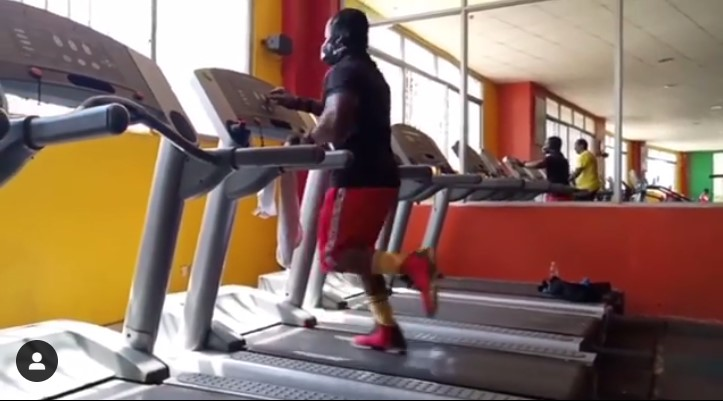face_with_mask: (318, 9, 367, 64)
